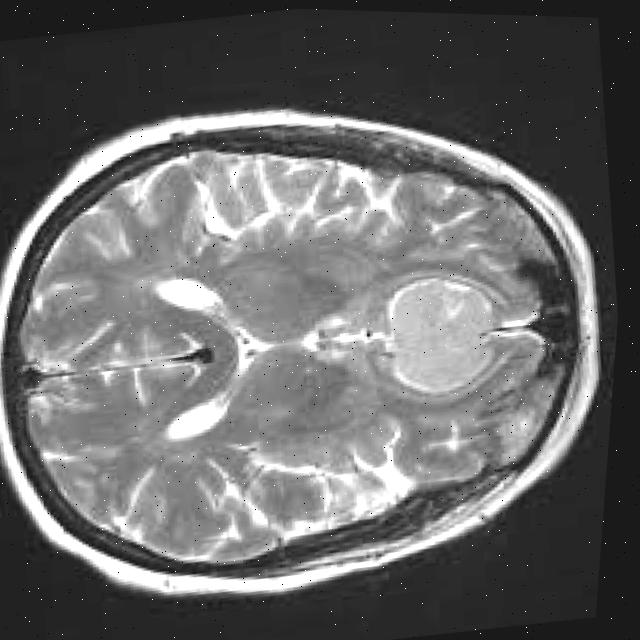Meningioma: (364, 258, 524, 414)
